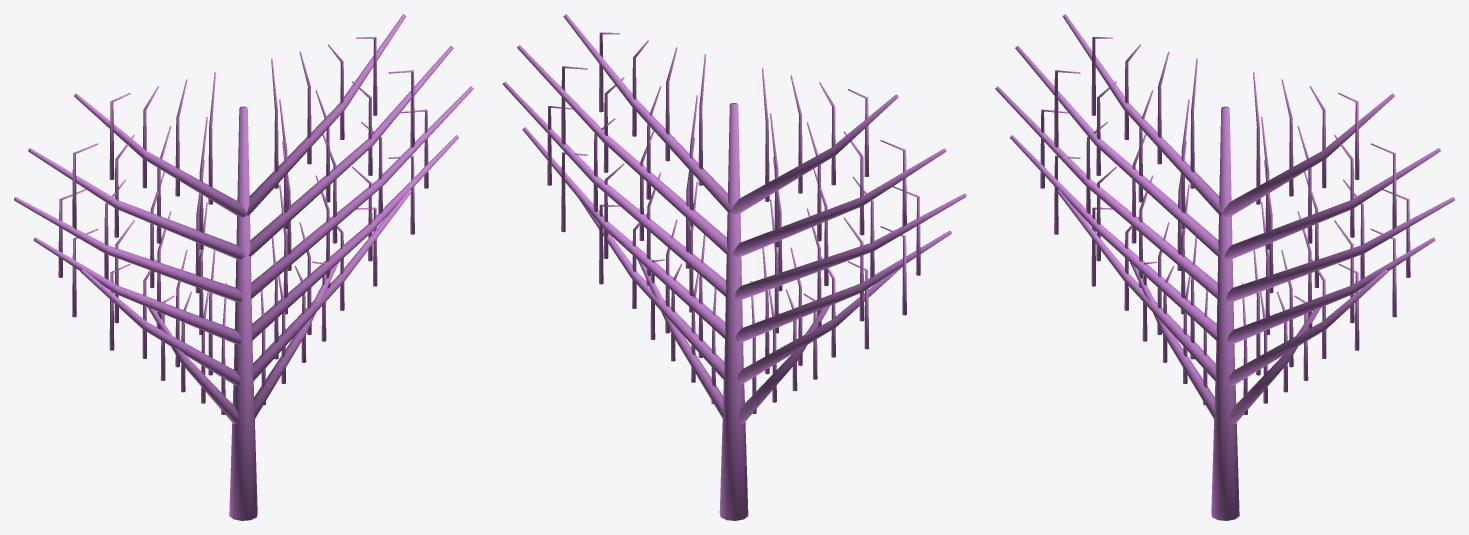
Rendered from underwater-reef-worlds-sea-fan-b04ba116__7004.glb.
3 renders of one model, left to right at view 1: azimuth 30°, elevation 25°; view 2: azimuth 150°, elevation 25°; view 3: azimuth 330°, elevation 25°, orthographic.
Visible parts, largest first — view 1: sea-fan; view 2: sea-fan; view 3: sea-fan.
Boxes of the visible parts, left/top/right/bottom form: sea-fan: left=14, top=14, right=473, bottom=520; sea-fan: left=502, top=14, right=966, bottom=520; sea-fan: left=995, top=14, right=1454, bottom=520.
Bounding box in the file's own units: 2.01 × 1.92 × 0.11.
